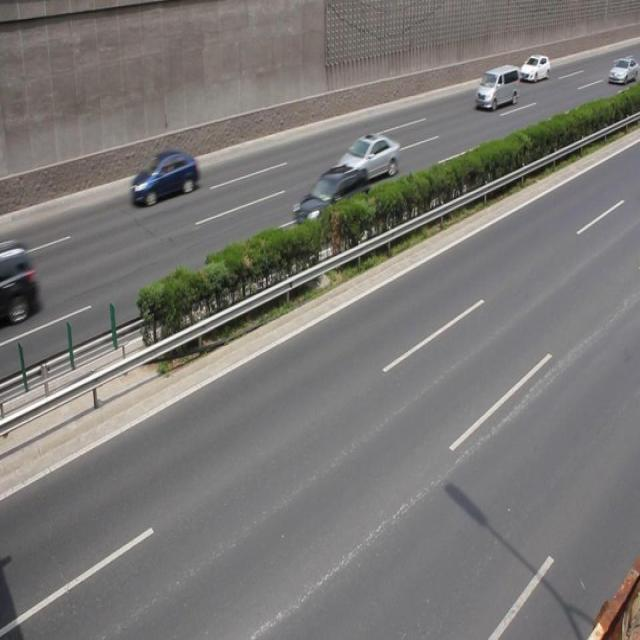car: (294, 163, 367, 238), (129, 152, 201, 205), (333, 132, 401, 184), (1, 238, 36, 320), (516, 52, 549, 82)
truck: (472, 64, 519, 110)
